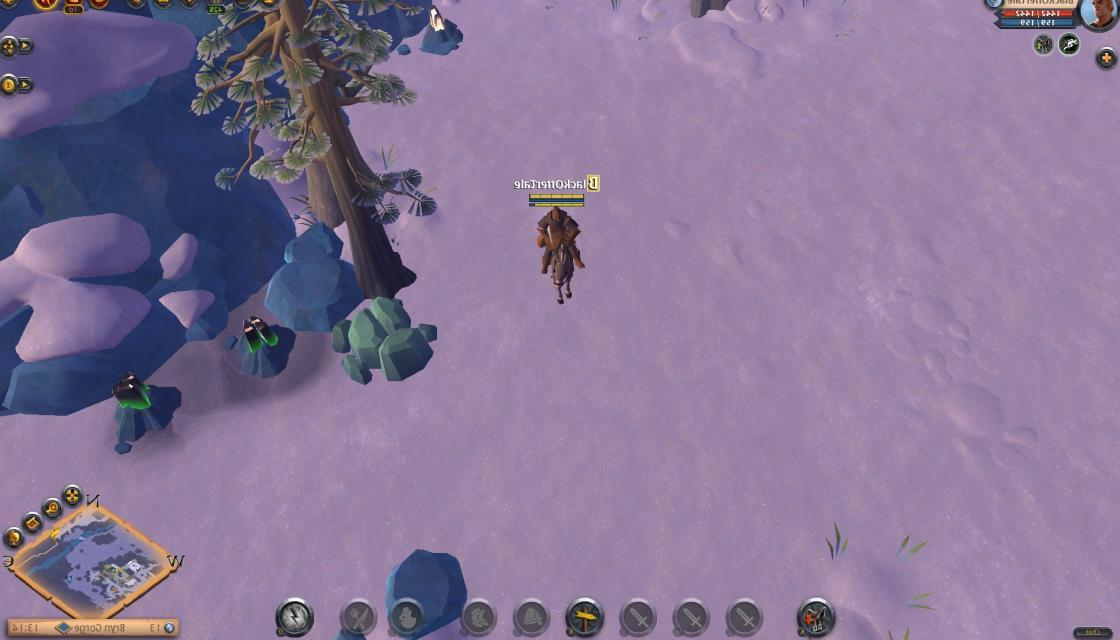copperore: (422, 6, 466, 54)
sandstone: (338, 296, 430, 382)
tinore: (109, 372, 178, 439), (235, 314, 294, 377)
